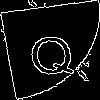Q: (24, 24, 77, 80)
